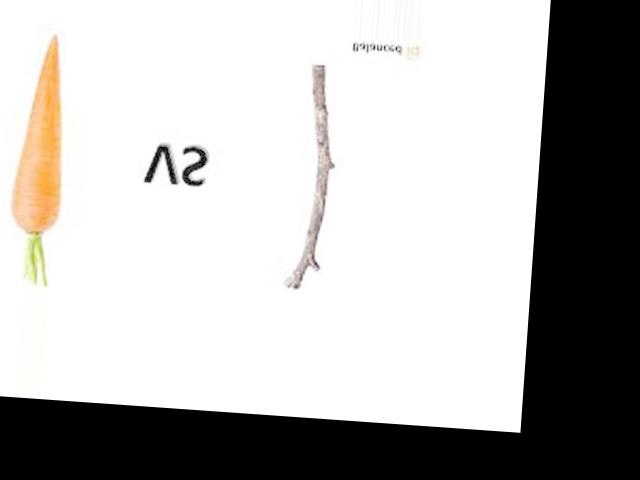carrot: (6, 25, 82, 246)
